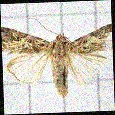Spodoptera litura: (2, 16, 113, 98)
